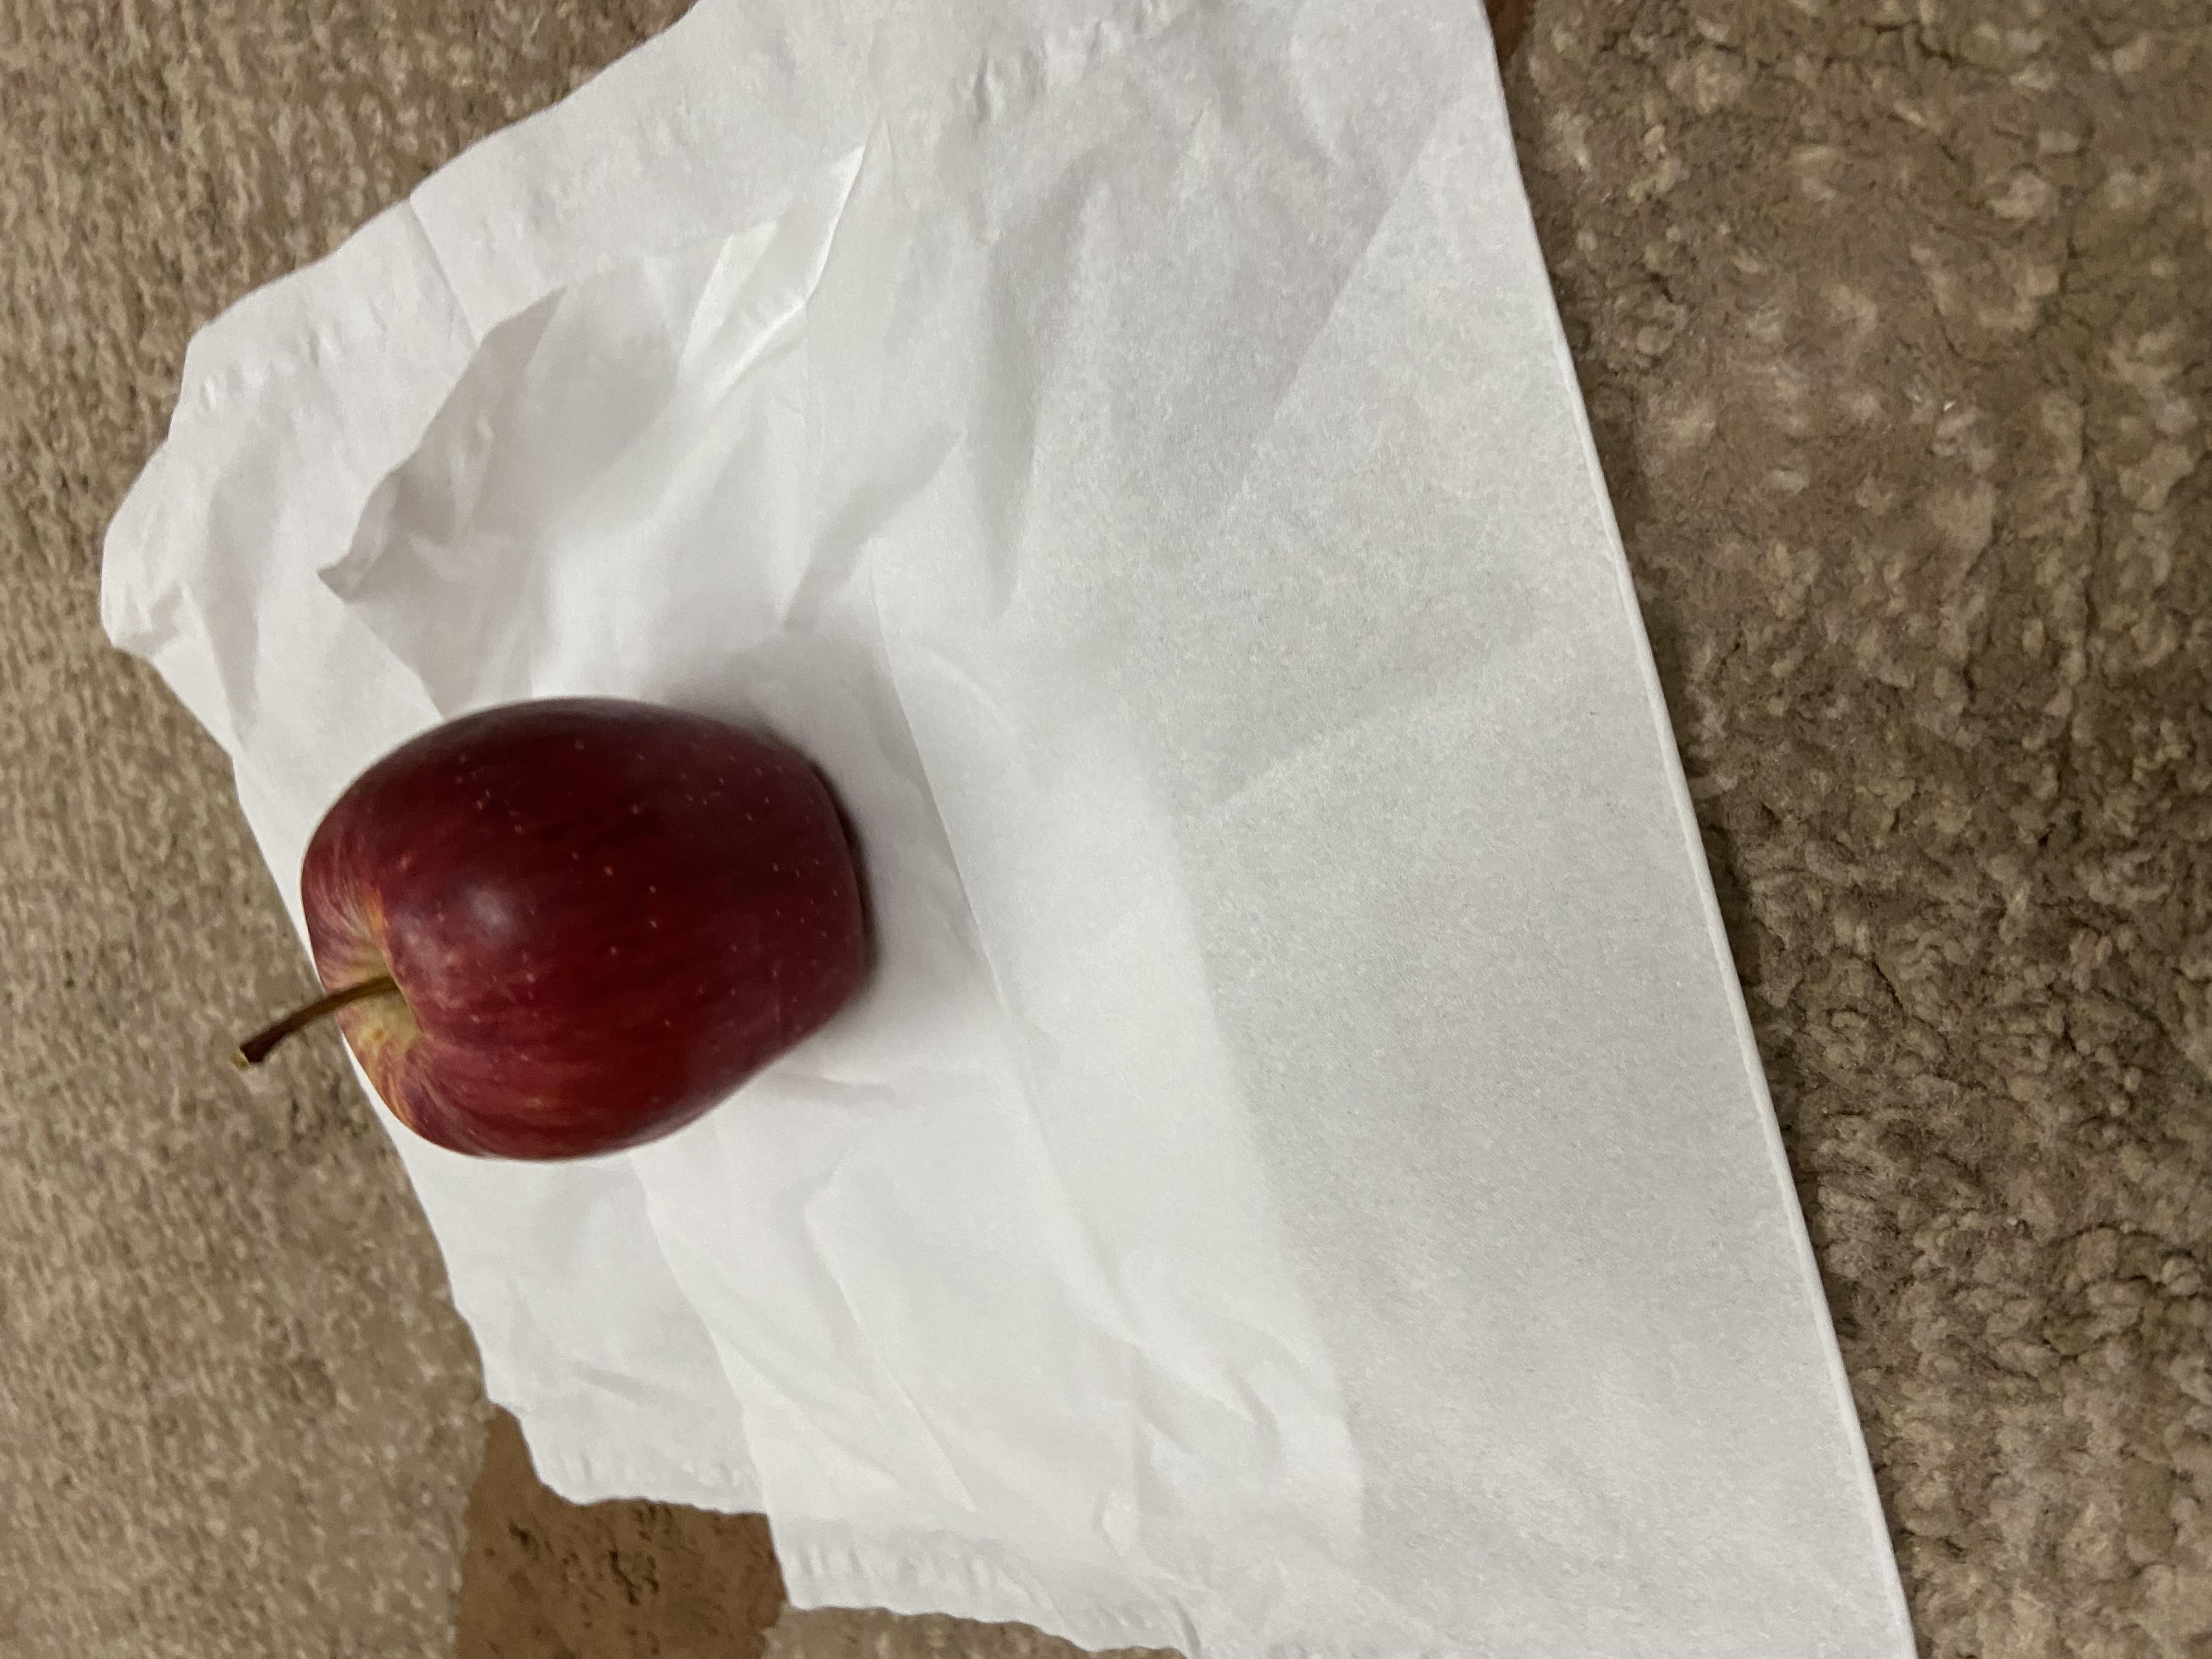Apple: (639, 160, 1303, 659)
